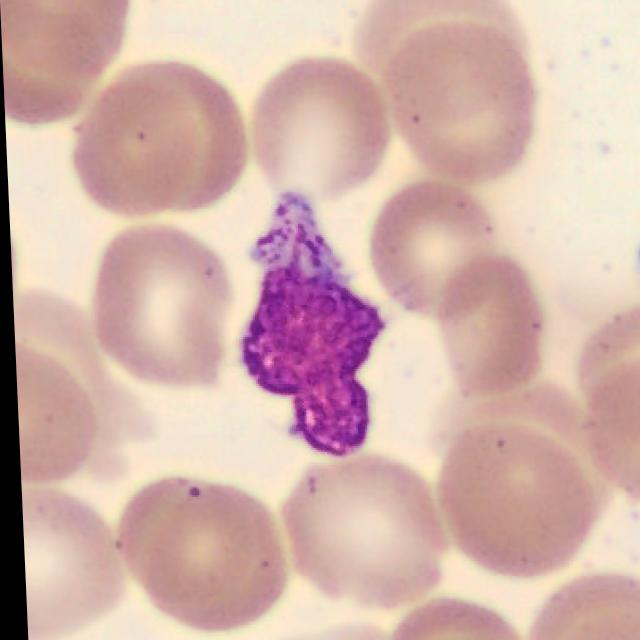Linfocito: (240, 194, 380, 454)
